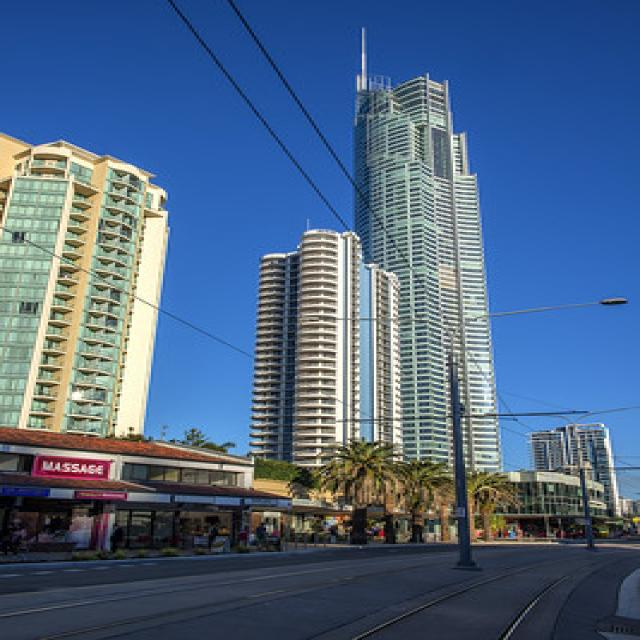building: (348, 64, 513, 518), (240, 225, 410, 510), (531, 420, 624, 546)
